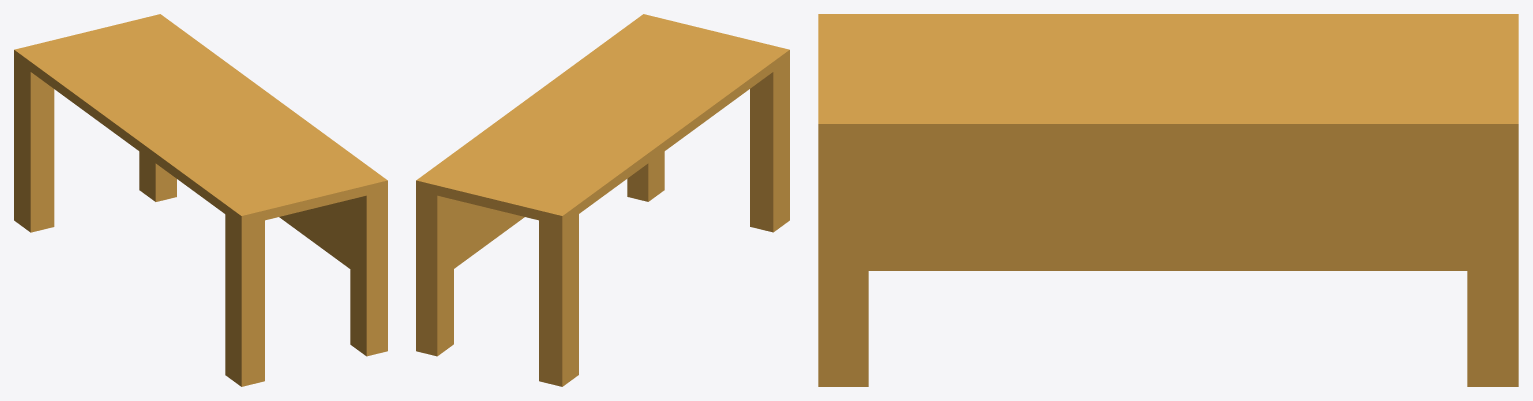
The model's file is KlaudiaDesk.fbx.
The picture shows the model from 3 angles, left to right: view 1: azimuth 30°, elevation 25°; view 2: azimuth 150°, elevation 25°; view 3: azimuth 270°, elevation 25°; orthographic projection. The views are drawn at different scales.
Parts seen in each view (by area): view 1: Cube; view 2: Cube; view 3: Cube.
Boxes of the visible parts, x1,y1,x2,y2 form: Cube: (14, 14, 387, 386); Cube: (416, 14, 789, 386); Cube: (818, 14, 1518, 386).
Bounding box in the file's own units: 200 × 223 × 538.
